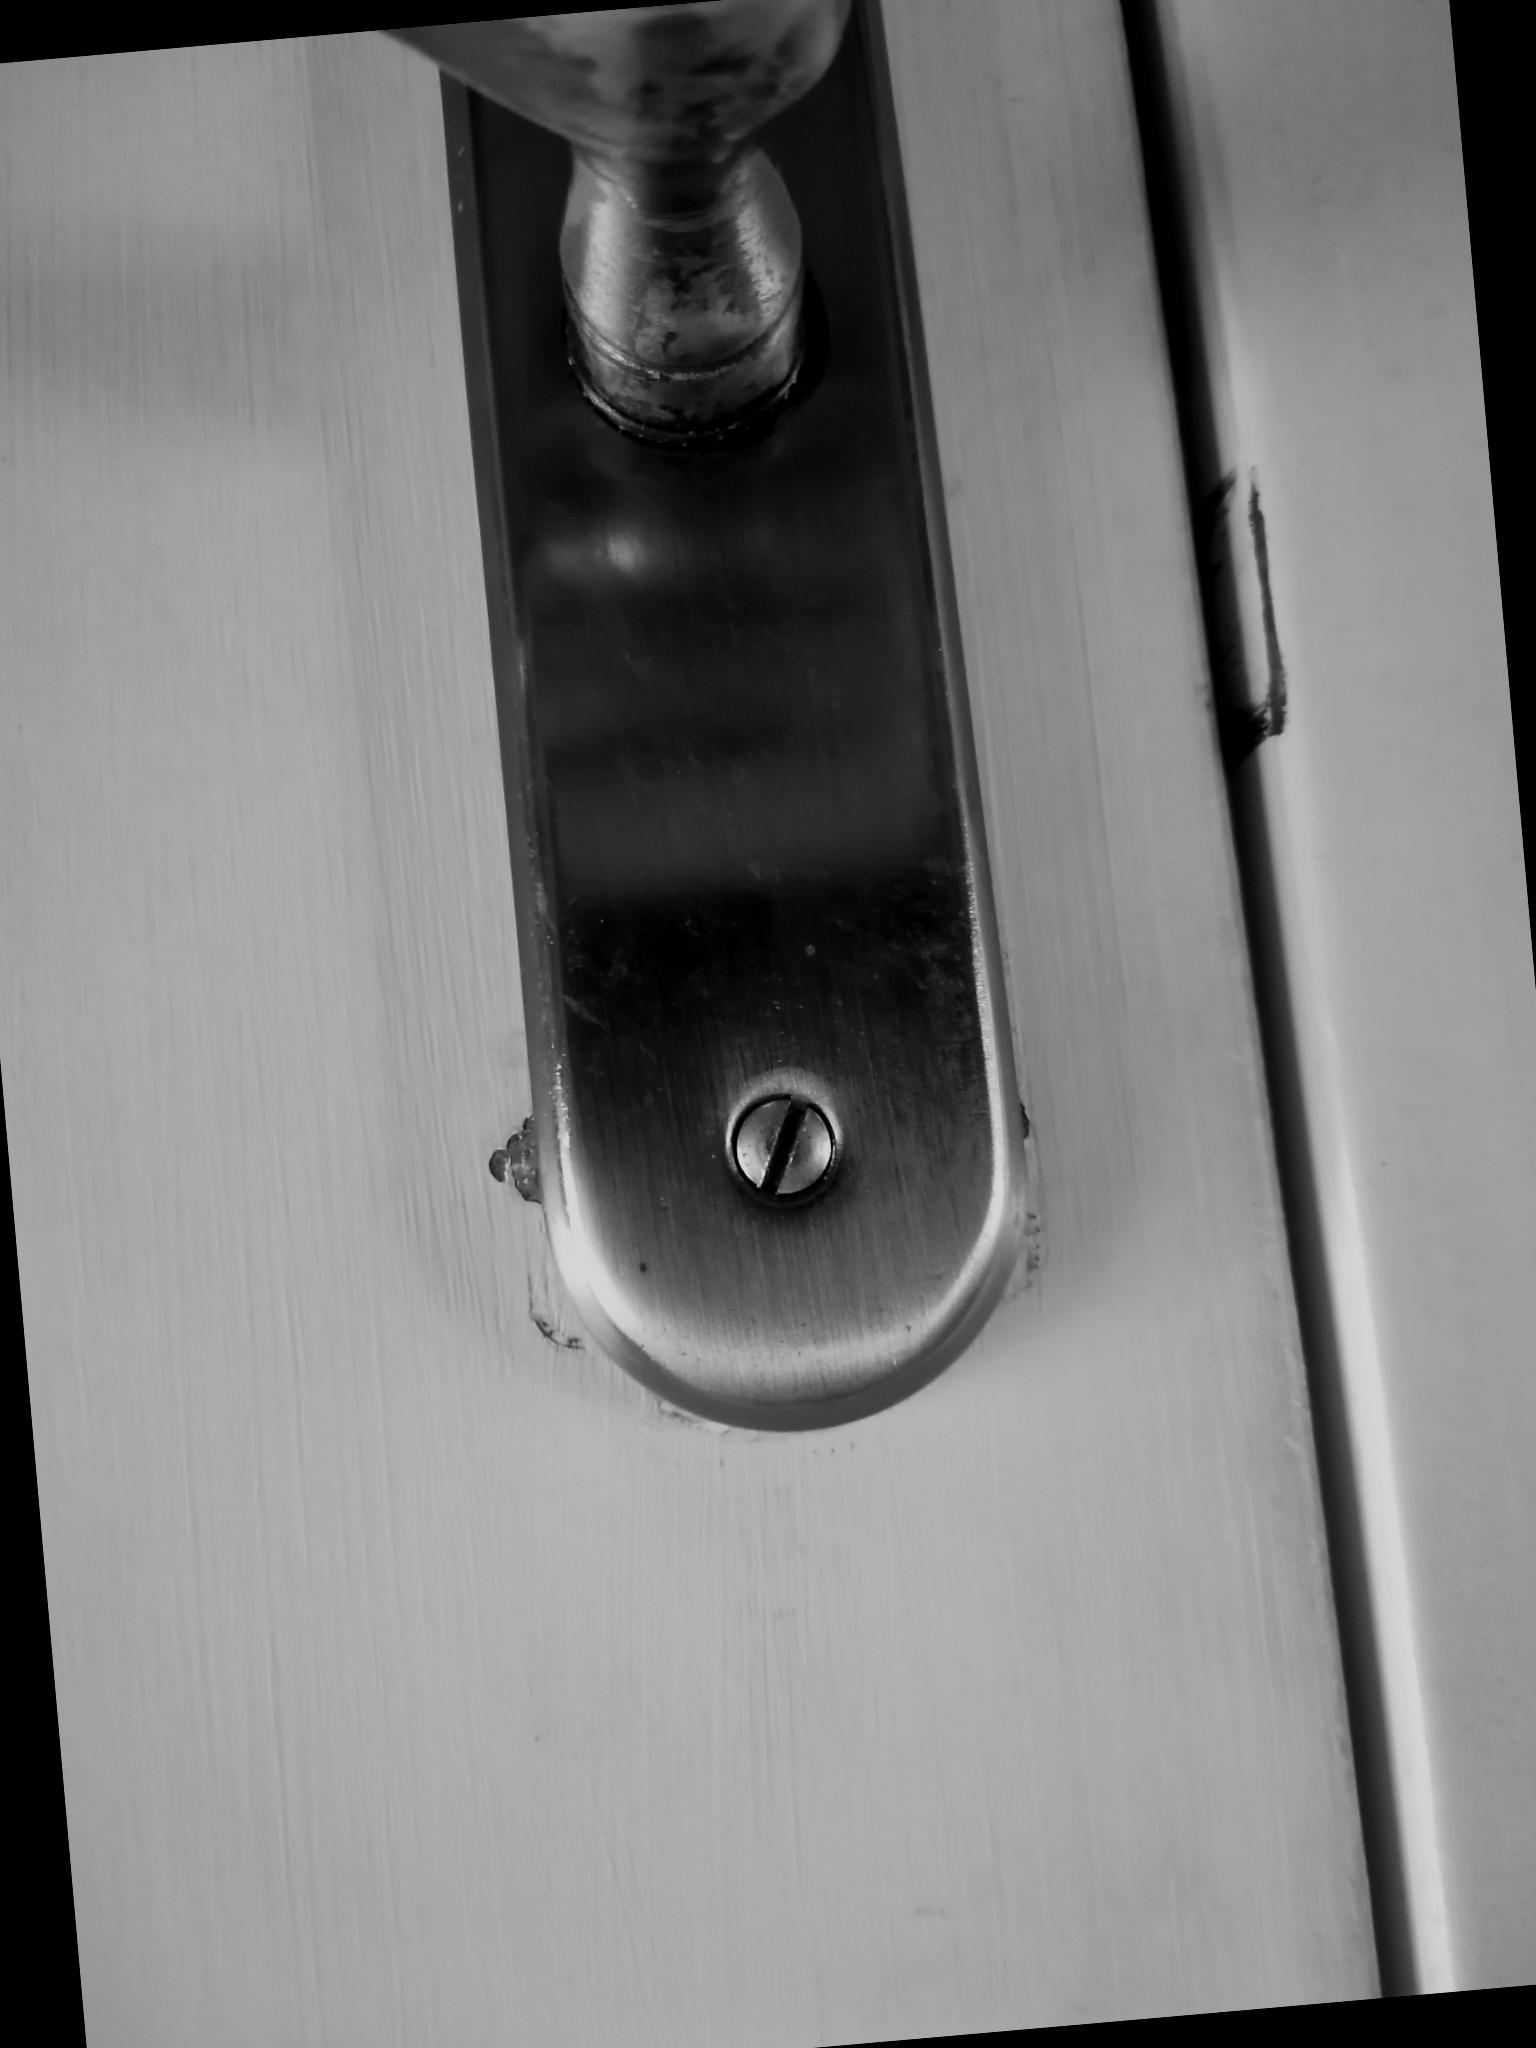screw: (710, 1077, 855, 1211)
